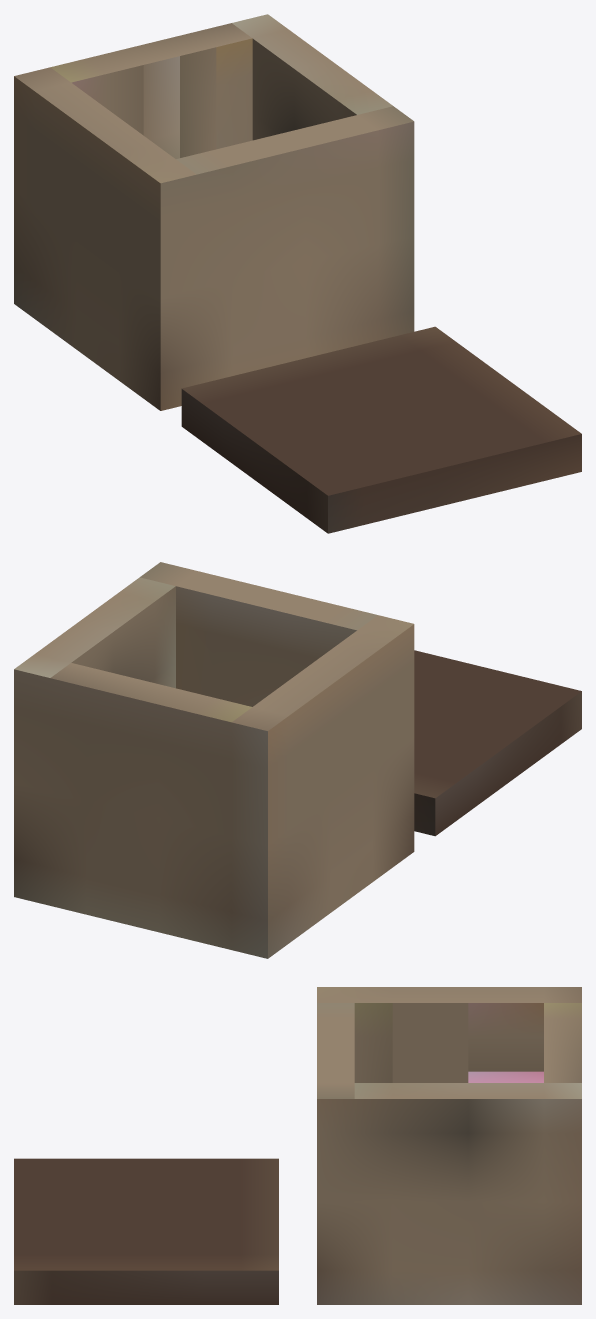
File: OfficeWarehouseStorageBoxOpenWithContent_02.obj
3 views of the same model, one above another, from view 1: azimuth 30°, elevation 25°; view 2: azimuth 150°, elevation 25°; view 3: azimuth 270°, elevation 25° (orthographic). The views are drawn at different scales.
Parts seen in each view (by area): view 1: OfficeWarehouseStorageBoxOpenWithContent_02; view 2: OfficeWarehouseStorageBoxOpenWithContent_02; view 3: OfficeWarehouseStorageBoxOpenWithContent_02.
Boxes of the visible parts, <box> form: OfficeWarehouseStorageBoxOpenWithContent_02: <box>14,14,581,533</box>; OfficeWarehouseStorageBoxOpenWithContent_02: <box>14,562,581,958</box>; OfficeWarehouseStorageBoxOpenWithContent_02: <box>14,987,581,1304</box>.
Bounding box in the file's own units: 0.35 × 0.3 × 0.75.
